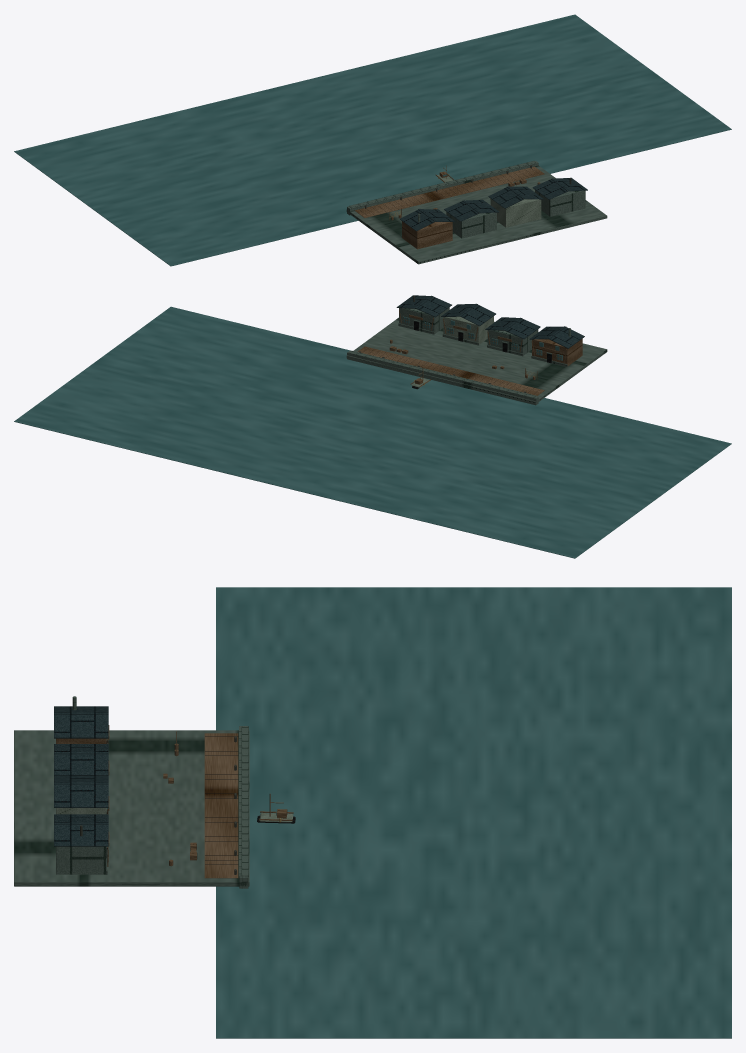
File: waterfront_phase1.glb
3 views of the same model, one above another, from view 1: azimuth 30°, elevation 25°; view 2: azimuth 150°, elevation 25°; view 3: azimuth 270°, elevation 25° (orthographic). The views are drawn at different scales.
Visible parts, largest first — view 1: WaterSurface, QuayFoundation, MooringApron, Chandlery_Shell, NetLoft_Shell, FishStores_Shell, FreightOffice_Shell, Seawall, NetLoft_Roof_L, FishStores_Roof_L, FreightOffice_Roof_L, Chandlery_Roof_L; view 2: WaterSurface, QuayFoundation, MooringApron, Seawall, Chandlery_Shell, NetLoft_Shell, FreightOffice_Shell, FishStores_Shell, NetLoft_Roof_L; view 3: WaterSurface, QuayFoundation, MooringApron, FishStores_Shell, Chandlery_Roof_R, NetLoft_Roof_R, FreightOffice_Roof_R, FishStores_Roof_R.
Boxes of the visible parts, left/top/right/bottom form: WaterSurface: left=14, top=14, right=731, bottom=266; QuayFoundation: left=346, top=165, right=607, bottom=264; MooringApron: left=354, top=166, right=544, bottom=217; Chandlery_Shell: left=402, top=221, right=452, bottom=249; NetLoft_Shell: left=490, top=199, right=541, bottom=227; FishStores_Shell: left=535, top=190, right=585, bottom=216; FreightOffice_Shell: left=446, top=212, right=496, bottom=238; Seawall: left=347, top=161, right=538, bottom=215; NetLoft_Roof_L: left=488, top=186, right=525, bottom=208; FishStores_Roof_L: left=532, top=178, right=569, bottom=199; FreightOffice_Roof_L: left=444, top=200, right=480, bottom=221; Chandlery_Roof_L: left=400, top=209, right=436, bottom=231; WaterSurface: left=14, top=306, right=731, bottom=558; QuayFoundation: left=346, top=317, right=607, bottom=404; MooringApron: left=357, top=346, right=544, bottom=395; Seawall: left=347, top=351, right=538, bottom=405; Chandlery_Shell: left=532, top=339, right=582, bottom=365; NetLoft_Shell: left=443, top=316, right=493, bottom=344; FreightOffice_Shell: left=487, top=329, right=538, bottom=355; FishStores_Shell: left=399, top=307, right=449, bottom=333; NetLoft_Roof_L: left=459, top=303, right=495, bottom=326; WaterSurface: left=216, top=587, right=731, bottom=1038; QuayFoundation: left=14, top=730, right=249, bottom=886; MooringApron: left=204, top=733, right=238, bottom=878; FishStores_Shell: left=56, top=846, right=106, bottom=874; Chandlery_Roof_R: left=54, top=712, right=108, bottom=738; NetLoft_Roof_R: left=54, top=782, right=108, bottom=807; FreightOffice_Roof_R: left=54, top=752, right=108, bottom=775; FishStores_Roof_R: left=54, top=822, right=108, bottom=846.
Size of the model in its own units: 190 by 10.96 by 128.
1 material, 1 textured.
